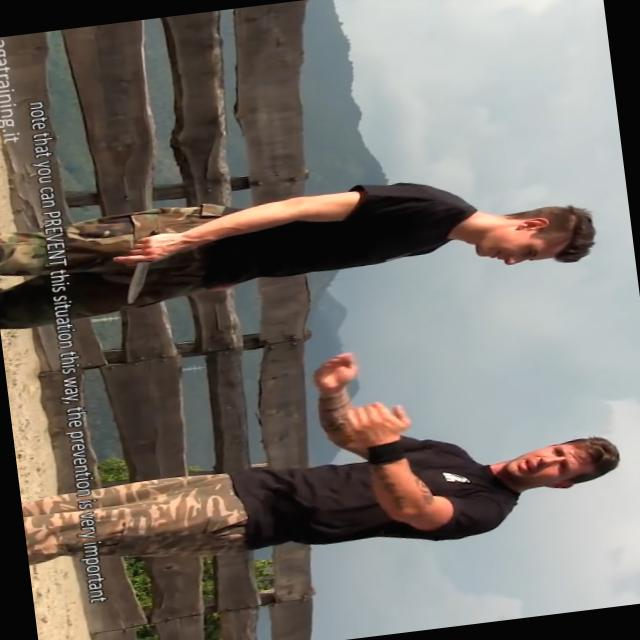knife: (106, 223, 178, 309)
